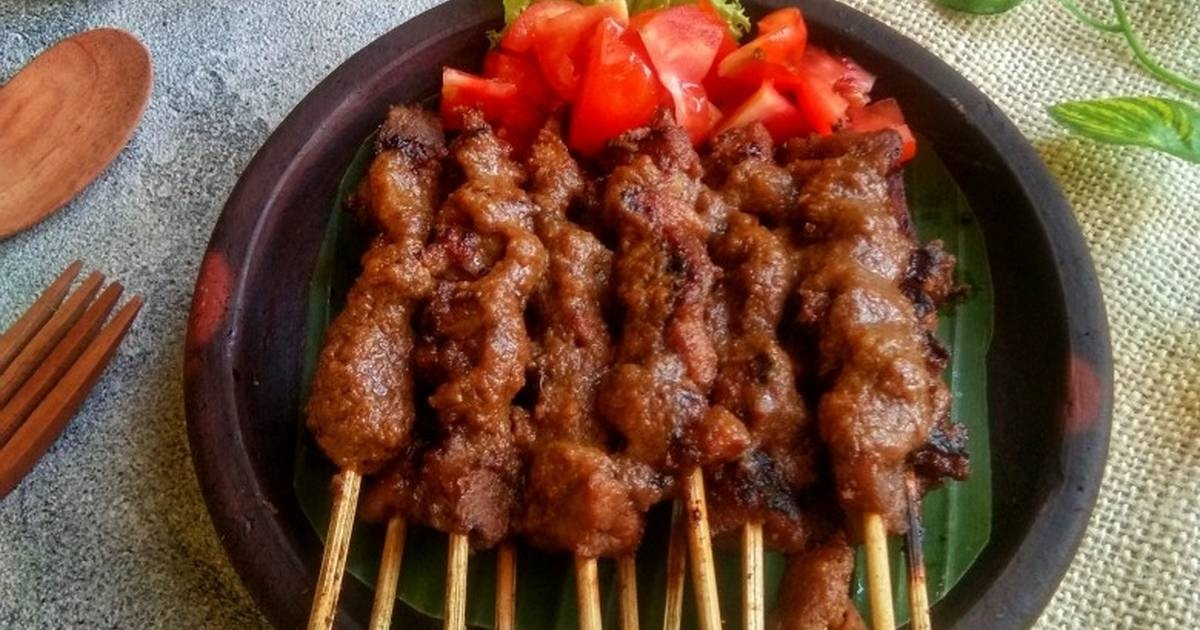sate: (302, 113, 931, 630)
